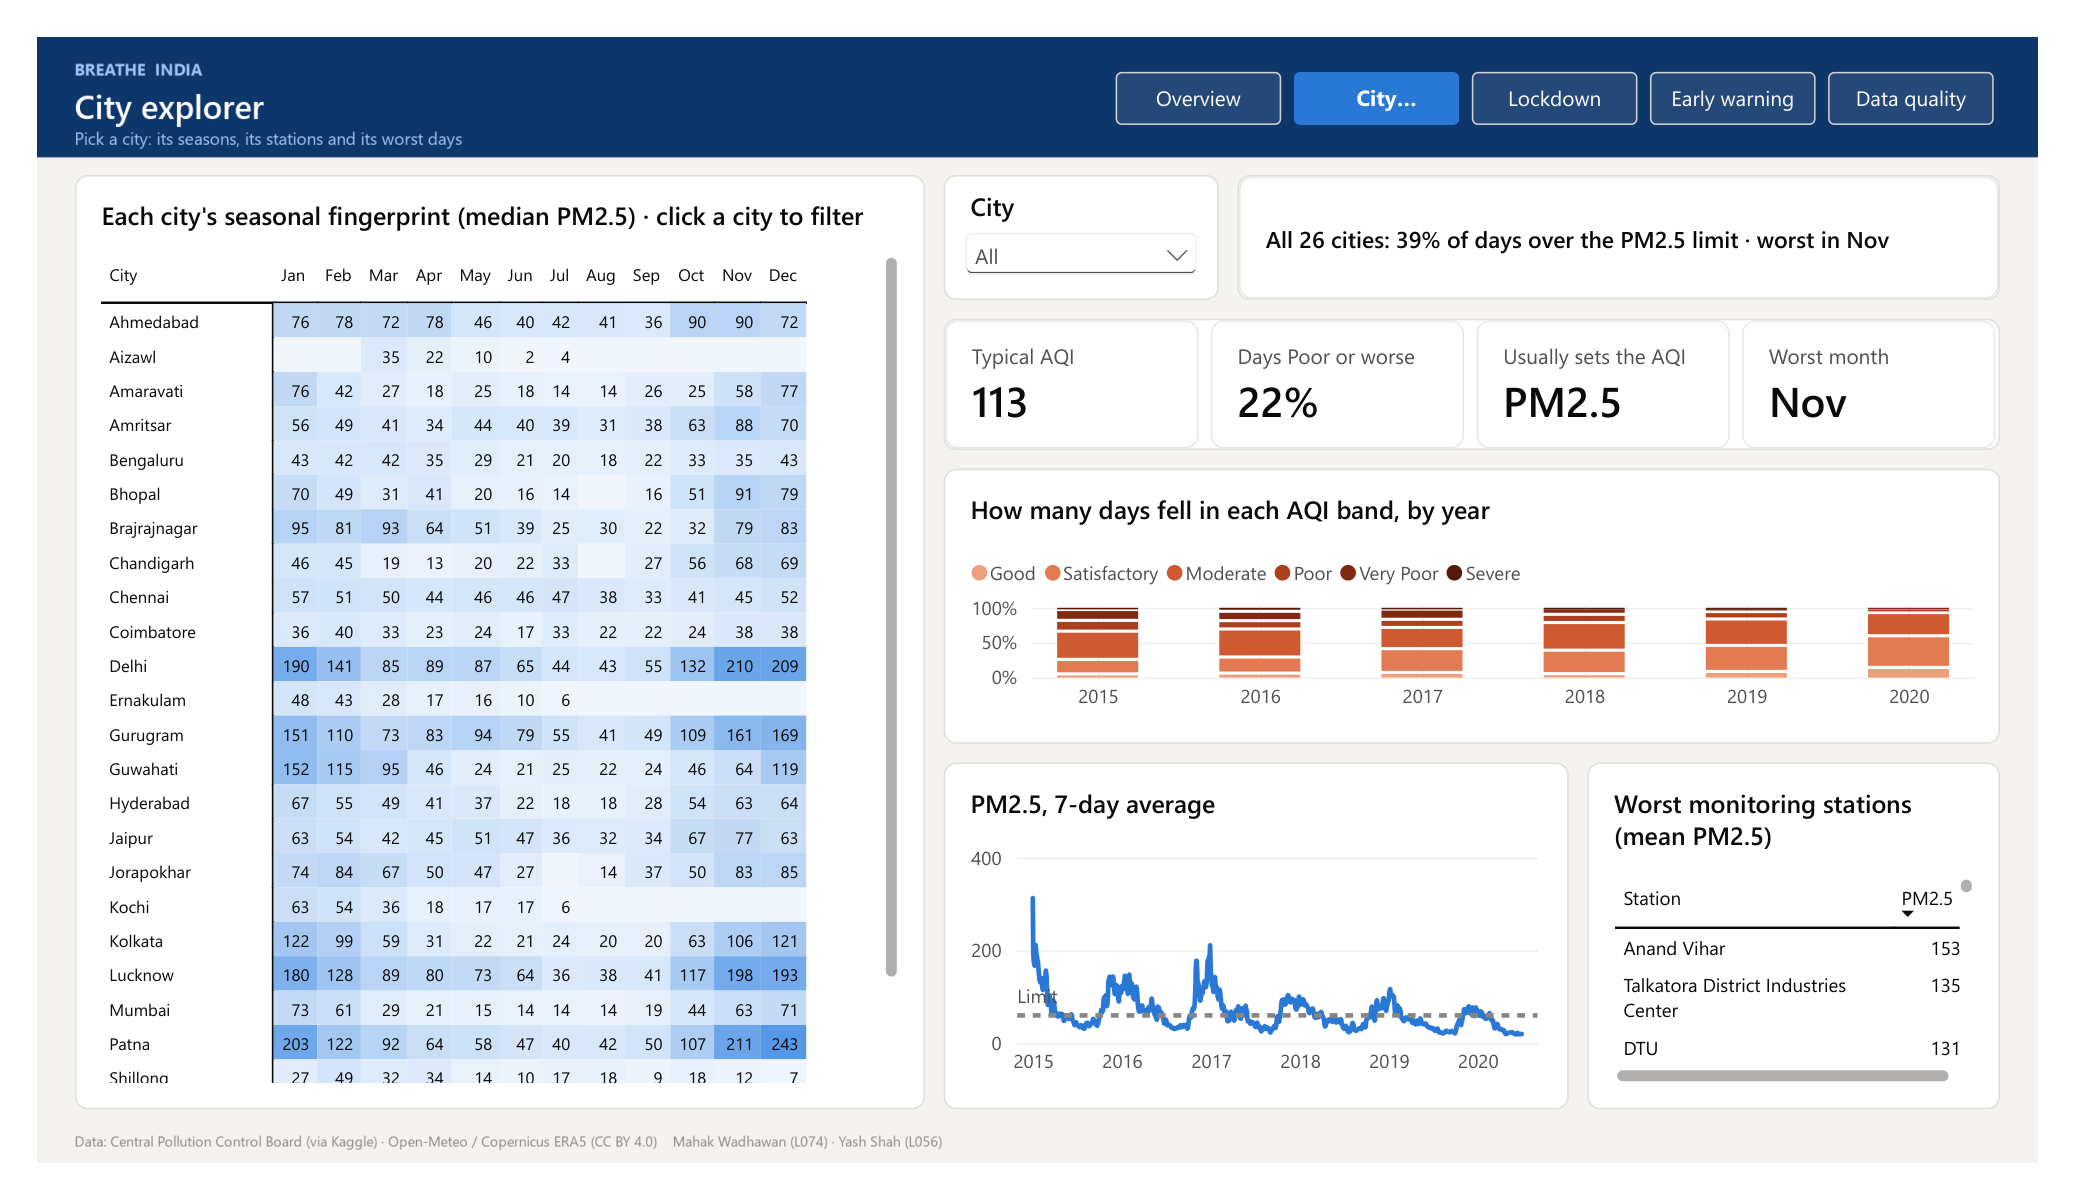

The page's visual inventory and layout, read from the dashboard file:
{"tool":"powerbi","page":{"name":"City explorer","canvas":[1280,720],"ordinal":1},"visuals":[{"type":"pivotTable","title":"Each city''s seasonal fingerprint (median PM2.5) · click a city to filter","fields":{"Columns":["dim_date.MonthName"],"Rows":["dim_city.City"],"Values":["_Measures.Median PM2.5"]},"box":[24,88,544,598],"z":1000},{"type":"slicer","fields":{"Values":["dim_city.City"]},"box":[580,88,176,80],"z":1000},{"type":"cardVisual","fields":{"Data":["_Measures.City Narrative"]},"box":[768,88,488,80],"z":1000},{"type":"cardVisual","fields":{"Data":["_Measures.Median AQI","_Measures.% Days Poor or Worse","_Measures.Main Pollutant","_Measures.Worst Month"]},"box":[580,180,676,84],"z":1000},{"type":"hundredPercentStackedColumnChart","title":"How many days fell in each AQI band, by year","fields":{"Category":["dim_date.Year"],"Series":["dim_aqi_category.category"],"Y":["_Measures.Days in AQI Band"]},"box":[580,276,676,176],"z":1000},{"type":"lineChart","title":"PM2.5, 7-day average","fields":{"Category":["dim_date.Date"],"Y":["_Measures.PM2.5 (7-day avg)"]},"box":[580,464,400,222],"z":1000},{"type":"tableEx","title":"Worst monitoring stations (mean PM2.5)","fields":{"Values":["dim_station.station_place","_Measures.Station PM2.5"]},"box":[992,464,264,222],"z":1000},{"type":"pageNavigator","box":[690,22,566,34],"z":5000}]}

Visuals, with their boxes on the page's 1280x720 design canvas (x1, y1, x2, y2). These are canvas units, not pixel positions in the 2075x1200 screenshot, which may show the page scaled, cropped or inside an application window:
"Each city''s seasonal fingerprint (median PM2.5) · click a city to filter" pivotTable: 24 88 568 686
slicer - dim_city.City: 580 88 756 168
cardVisual - _Measures.City Narrative: 768 88 1256 168
cardVisual - _Measures.Median AQI x _Measures.% Days Poor or Worse: 580 180 1256 264
"How many days fell in each AQI band, by year" hundredPercentStackedColumnChart: 580 276 1256 452
"PM2.5, 7-day average" lineChart: 580 464 980 686
"Worst monitoring stations (mean PM2.5)" tableEx: 992 464 1256 686
pageNavigator: 690 22 1256 56
